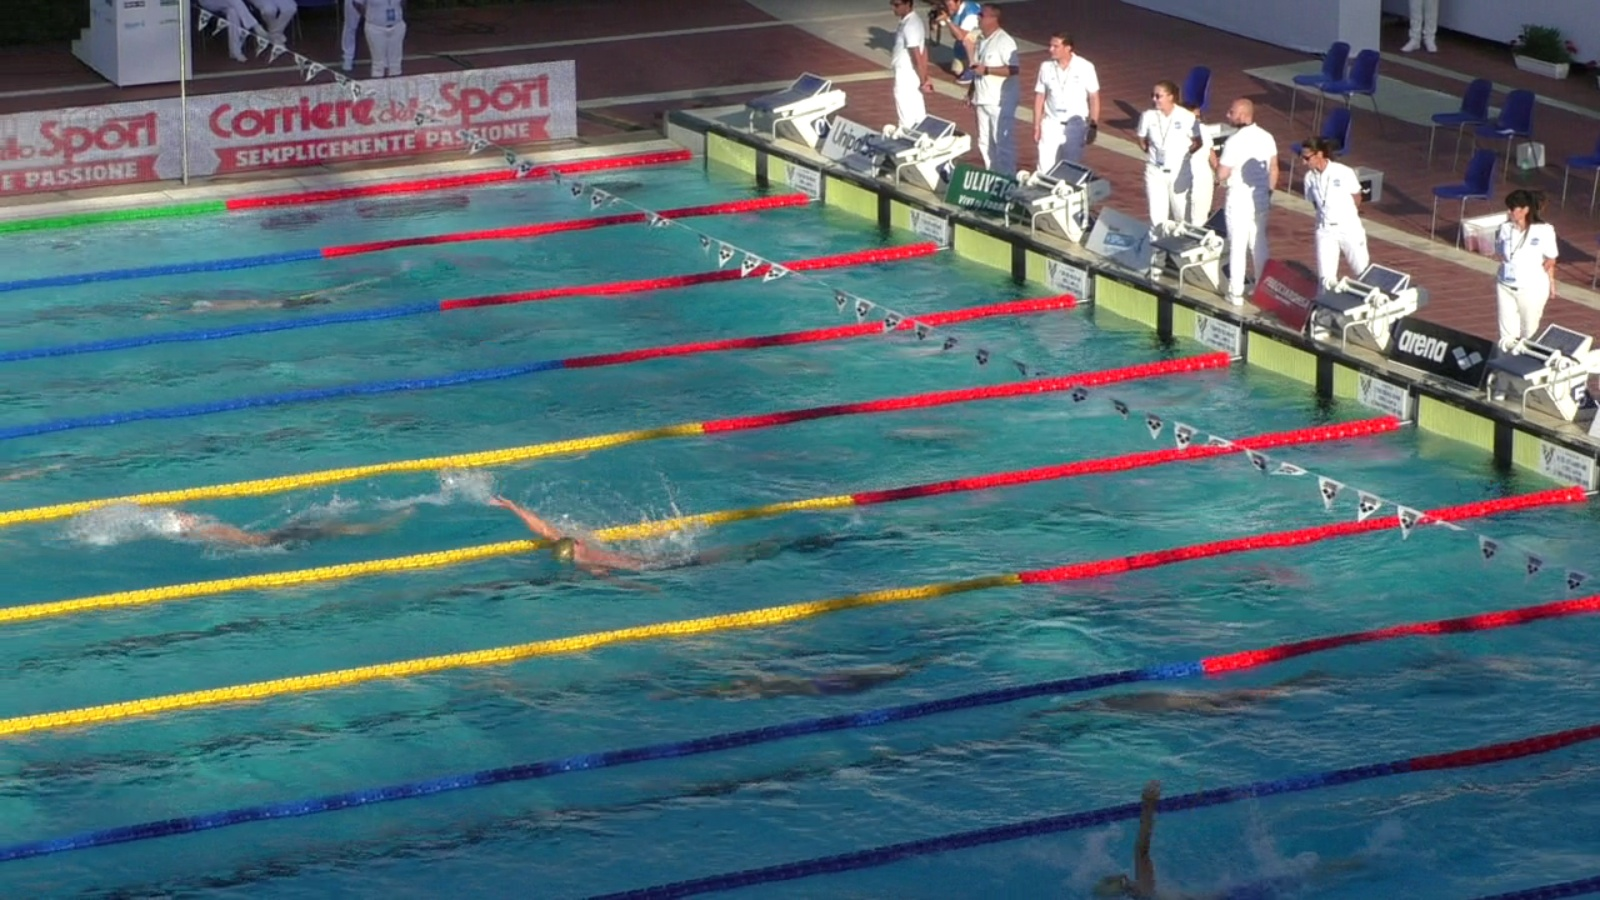swimmerwdd: (1084, 784, 1386, 897), (495, 495, 795, 601), (1037, 673, 1345, 727), (141, 505, 426, 548), (662, 662, 935, 696), (151, 292, 366, 313)
